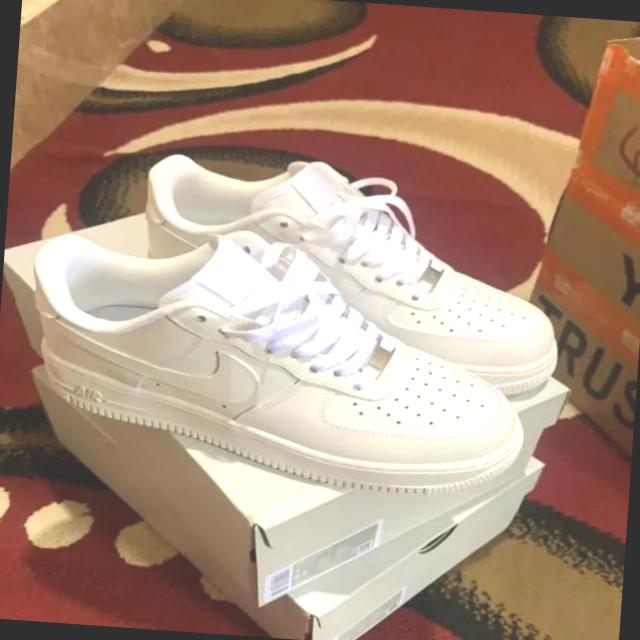nike_original_airforce: (21, 216, 538, 508), (135, 148, 572, 398)
